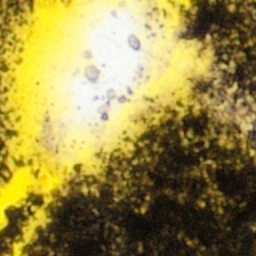cement_matrix: (25, 107, 255, 255), (184, 0, 255, 107), (0, 195, 41, 255), (0, 0, 31, 34), (0, 114, 5, 179)
cracks: (0, 0, 255, 255)
gravel_crushed_stones: (50, 0, 173, 144)
